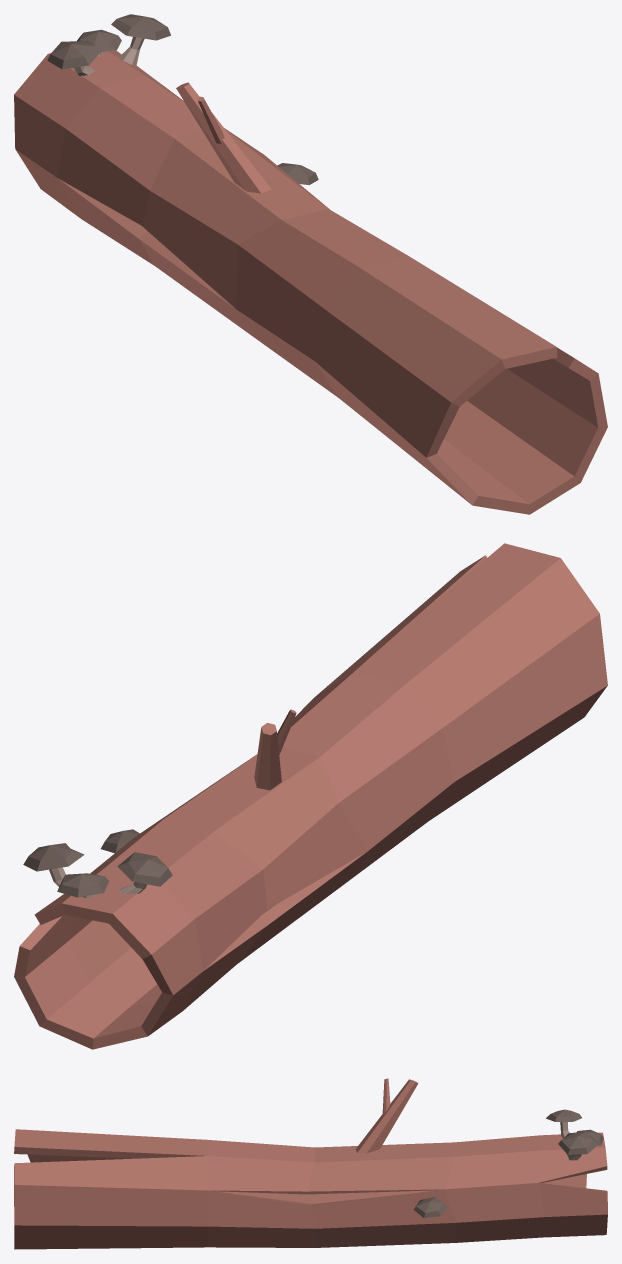
File: WoodLog.glb
3 renders of one model, top to bottom at view 1: azimuth 30°, elevation 25°; view 2: azimuth 150°, elevation 25°; view 3: azimuth 270°, elevation 25°, orthographic. The views are drawn at different scales.
Parts seen in each view (by area): view 1: WoodLog; view 2: WoodLog; view 3: WoodLog.
Part boxes in pixels (x1,y1,x2,y2): WoodLog: (14,14,607,514); WoodLog: (14,543,607,1049); WoodLog: (14,1078,607,1249).
Size of the model in its own units: 0.6329 by 0.7483 by 2.67.
